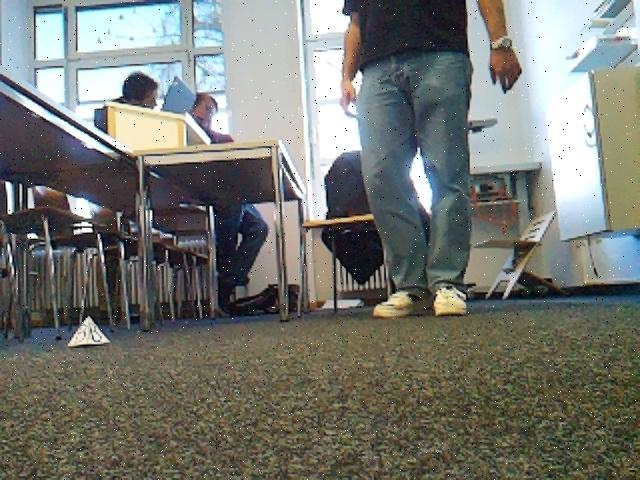B: (69, 317, 104, 342)
